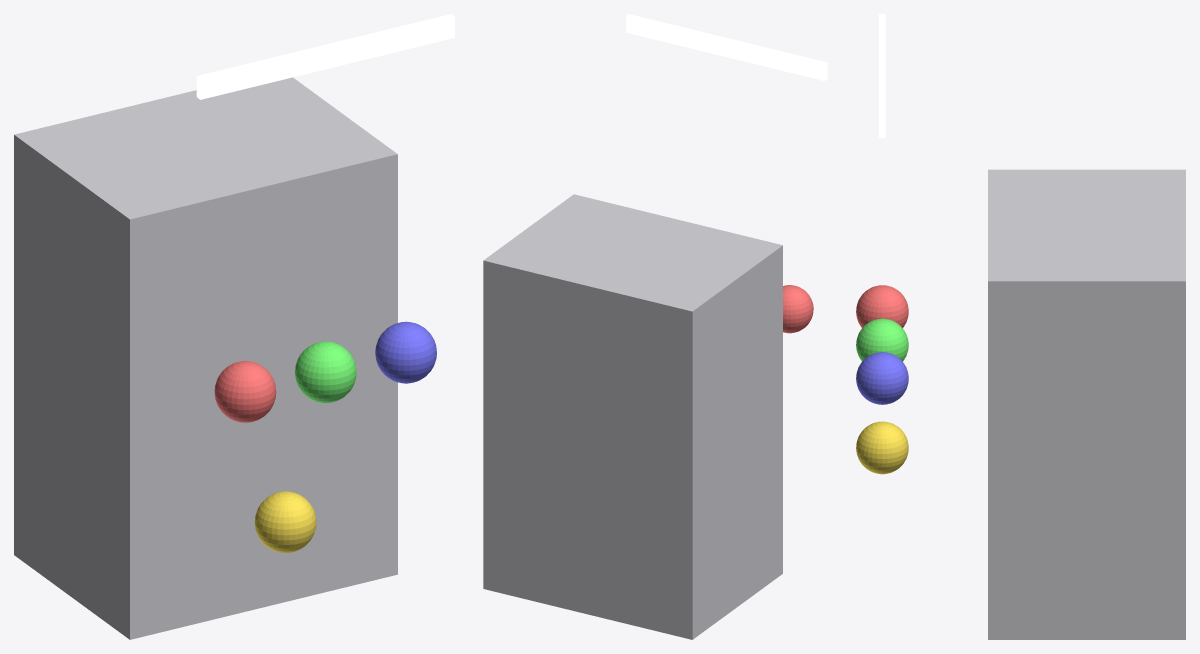
The model's file is vending_machine.glb.
3 renders of one model, left to right at view 1: azimuth 30°, elevation 25°; view 2: azimuth 150°, elevation 25°; view 3: azimuth 270°, elevation 25°, orthographic. The views are drawn at different scales.
Visible parts, largest first — view 1: LED; view 2: LED; view 3: LED.
Boxes of the visible parts, x1,y1,x2,y2 form: LED: [14, 14, 454, 639]; LED: [483, 14, 827, 639]; LED: [856, 14, 1185, 639].
Size of the model in its own units: 0.4 by 0.865 by 0.5.
